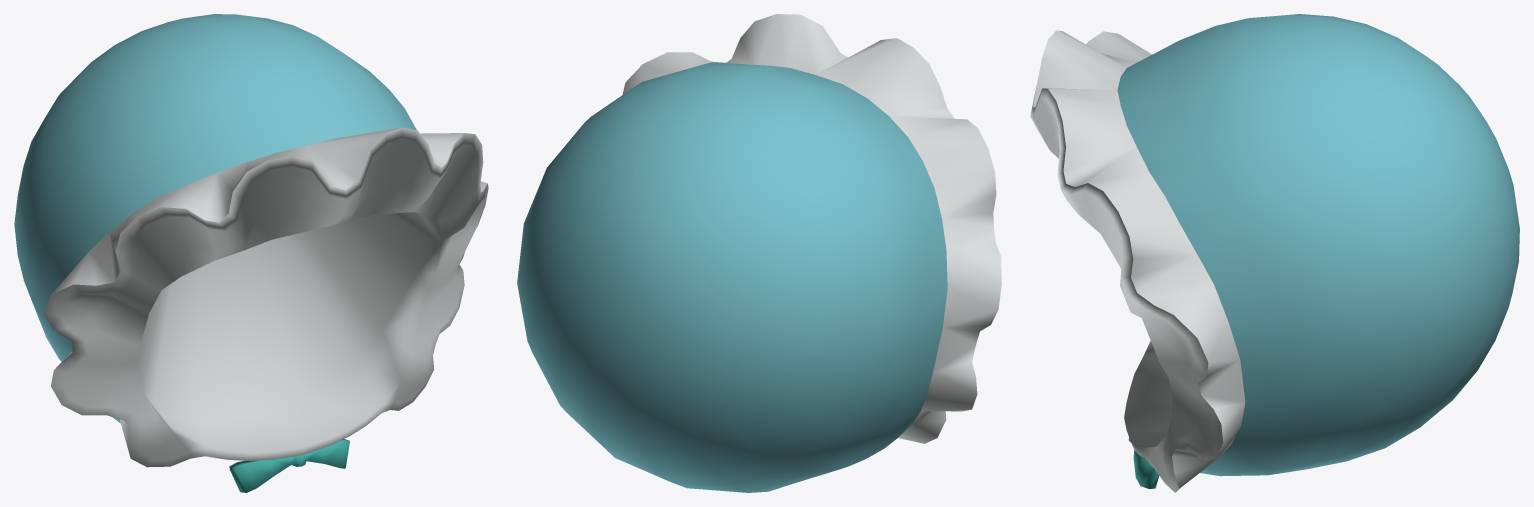
Rendered from CapBangsBonnet0.glb.
3 renders of one model, left to right at view 1: azimuth 30°, elevation 25°; view 2: azimuth 150°, elevation 25°; view 3: azimuth 270°, elevation 25°, orthographic. The views are drawn at different scales.
Visible parts, largest first — view 1: Body__mCap; view 2: Body__mCap; view 3: Body__mCap.
Part boxes in pixels (x1,y1,x2,y2): Body__mCap: (14, 14, 488, 492); Body__mCap: (517, 14, 1001, 492); Body__mCap: (1030, 14, 1519, 492).
Size of the model in its own units: 9.36 by 8.06 by 8.34.
1 material, 1 textured.
